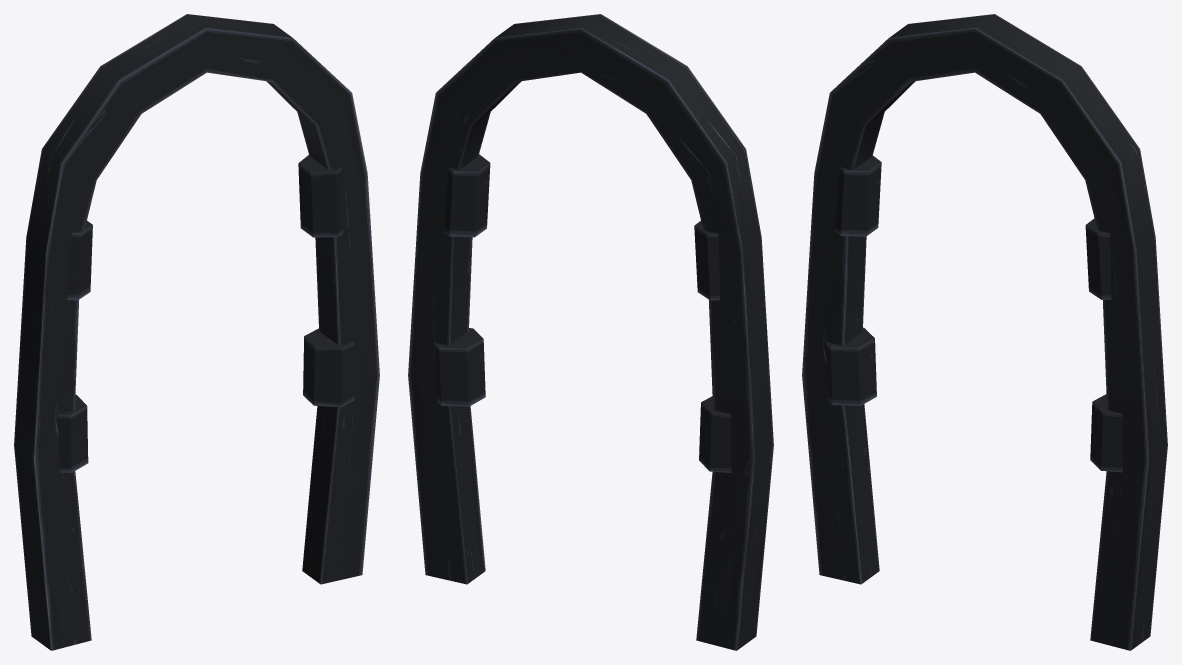
The model's file is MOD_Gateway_Door_01_large.fbx.
3 renders of one model, left to right at view 1: azimuth 30°, elevation 25°; view 2: azimuth 150°, elevation 25°; view 3: azimuth 330°, elevation 25°, orthographic.
Visible parts, largest first — view 1: MOD_Gateway_Door_01_large; view 2: MOD_Gateway_Door_01_large; view 3: MOD_Gateway_Door_01_large.
Part boxes in pixels (<box>): MOD_Gateway_Door_01_large: <box>14,14,379,650</box>; MOD_Gateway_Door_01_large: <box>408,14,773,650</box>; MOD_Gateway_Door_01_large: <box>802,14,1167,650</box>.
Size of what is drawn, in the model's own units: 362 by 584 by 51.28.
